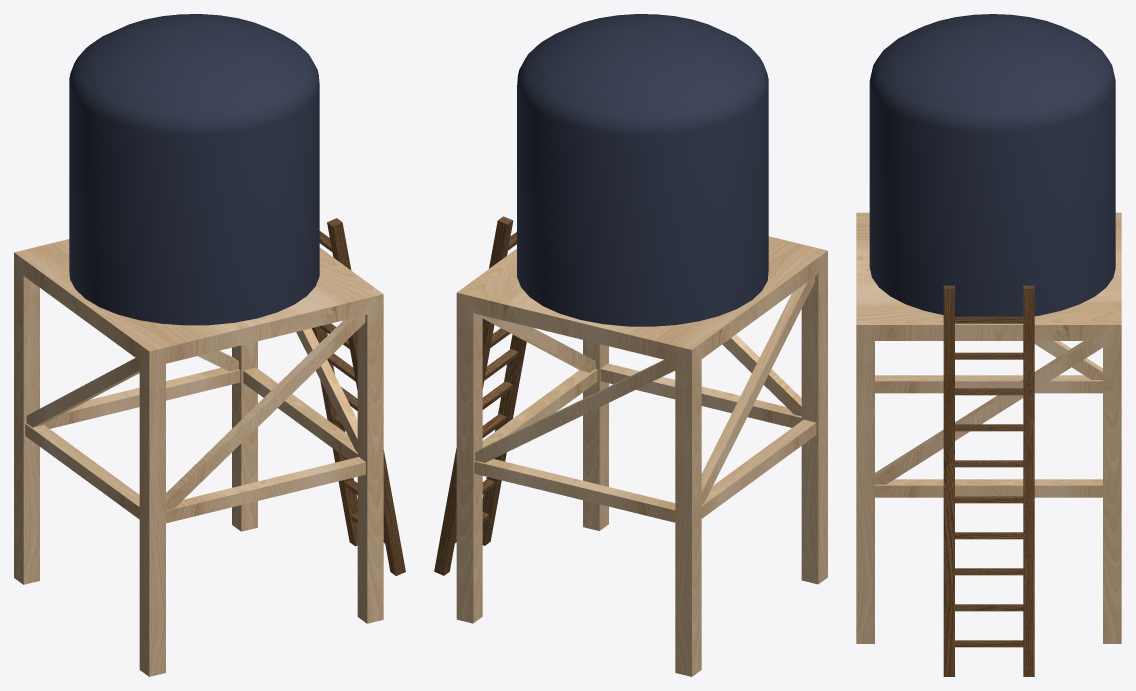
Rendered from caixadagua.fbx.
3 renders of one model, left to right at view 1: azimuth 30°, elevation 25°; view 2: azimuth 150°, elevation 25°; view 3: azimuth 270°, elevation 25°, orthographic. The views are drawn at different scales.
Visible parts, largest first — view 1: Cylinder.004, Cube.002, Cube.019; view 2: Cylinder.004, Cube.002, Cube.019; view 3: Cylinder.004, Cube.002, Cube.019.
Part boxes in pixels (box(x1,y1,x2,y2)): Cylinder.004: box(69, 14, 319, 325); Cube.002: box(14, 239, 383, 676); Cube.019: box(312, 218, 405, 575); Cylinder.004: box(517, 14, 768, 326); Cube.002: box(456, 236, 827, 676); Cube.019: box(434, 216, 526, 575); Cylinder.004: box(869, 14, 1115, 316); Cube.002: box(856, 212, 1121, 643); Cube.019: box(943, 285, 1034, 676).
Size of the model in its own units: 490 by 876 by 381.
